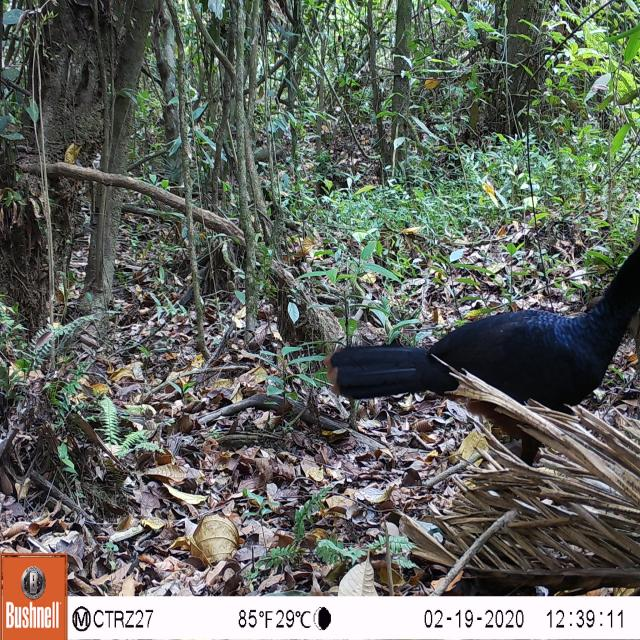Salvins Curassow: (322, 213, 640, 488)
